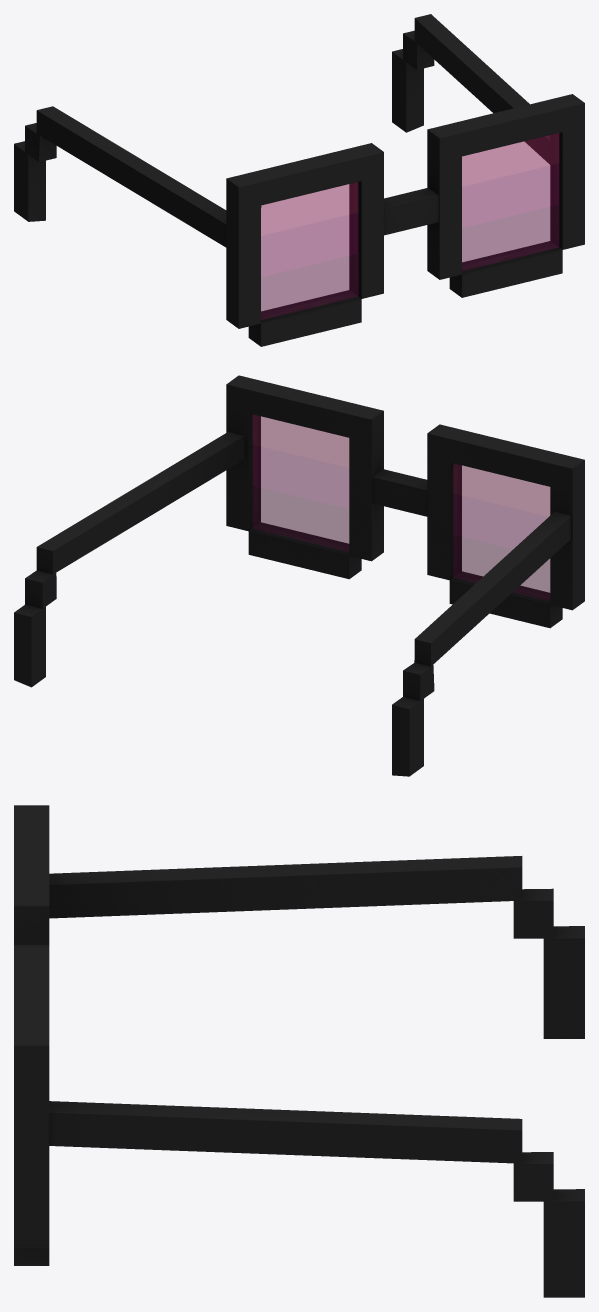
The picture shows the model from 3 angles, top to bottom: view 1: azimuth 30°, elevation 25°; view 2: azimuth 150°, elevation 25°; view 3: azimuth 270°, elevation 25°; orthographic projection. The views are drawn at different scales.
Parts seen in each view (by area): view 1: Wolf3D_Glasses; view 2: Wolf3D_Glasses; view 3: Wolf3D_Glasses.
Boxes of the visible parts, x1,y1,x2,y2 form: Wolf3D_Glasses: (14,14,584,346); Wolf3D_Glasses: (14,375,584,776); Wolf3D_Glasses: (14,805,584,1297).
Bounding box in the file's own units: 0.168 × 0.0679 × 0.1472.
1 material, 1 textured.
